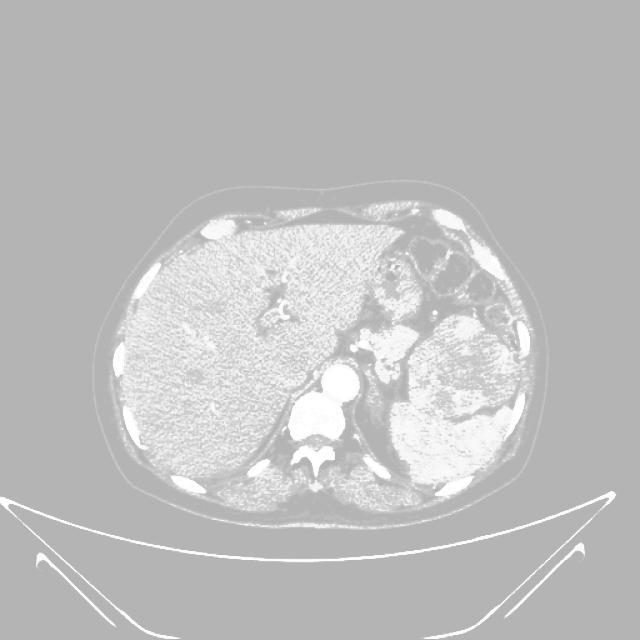TUMOR: (384, 256, 559, 482)
